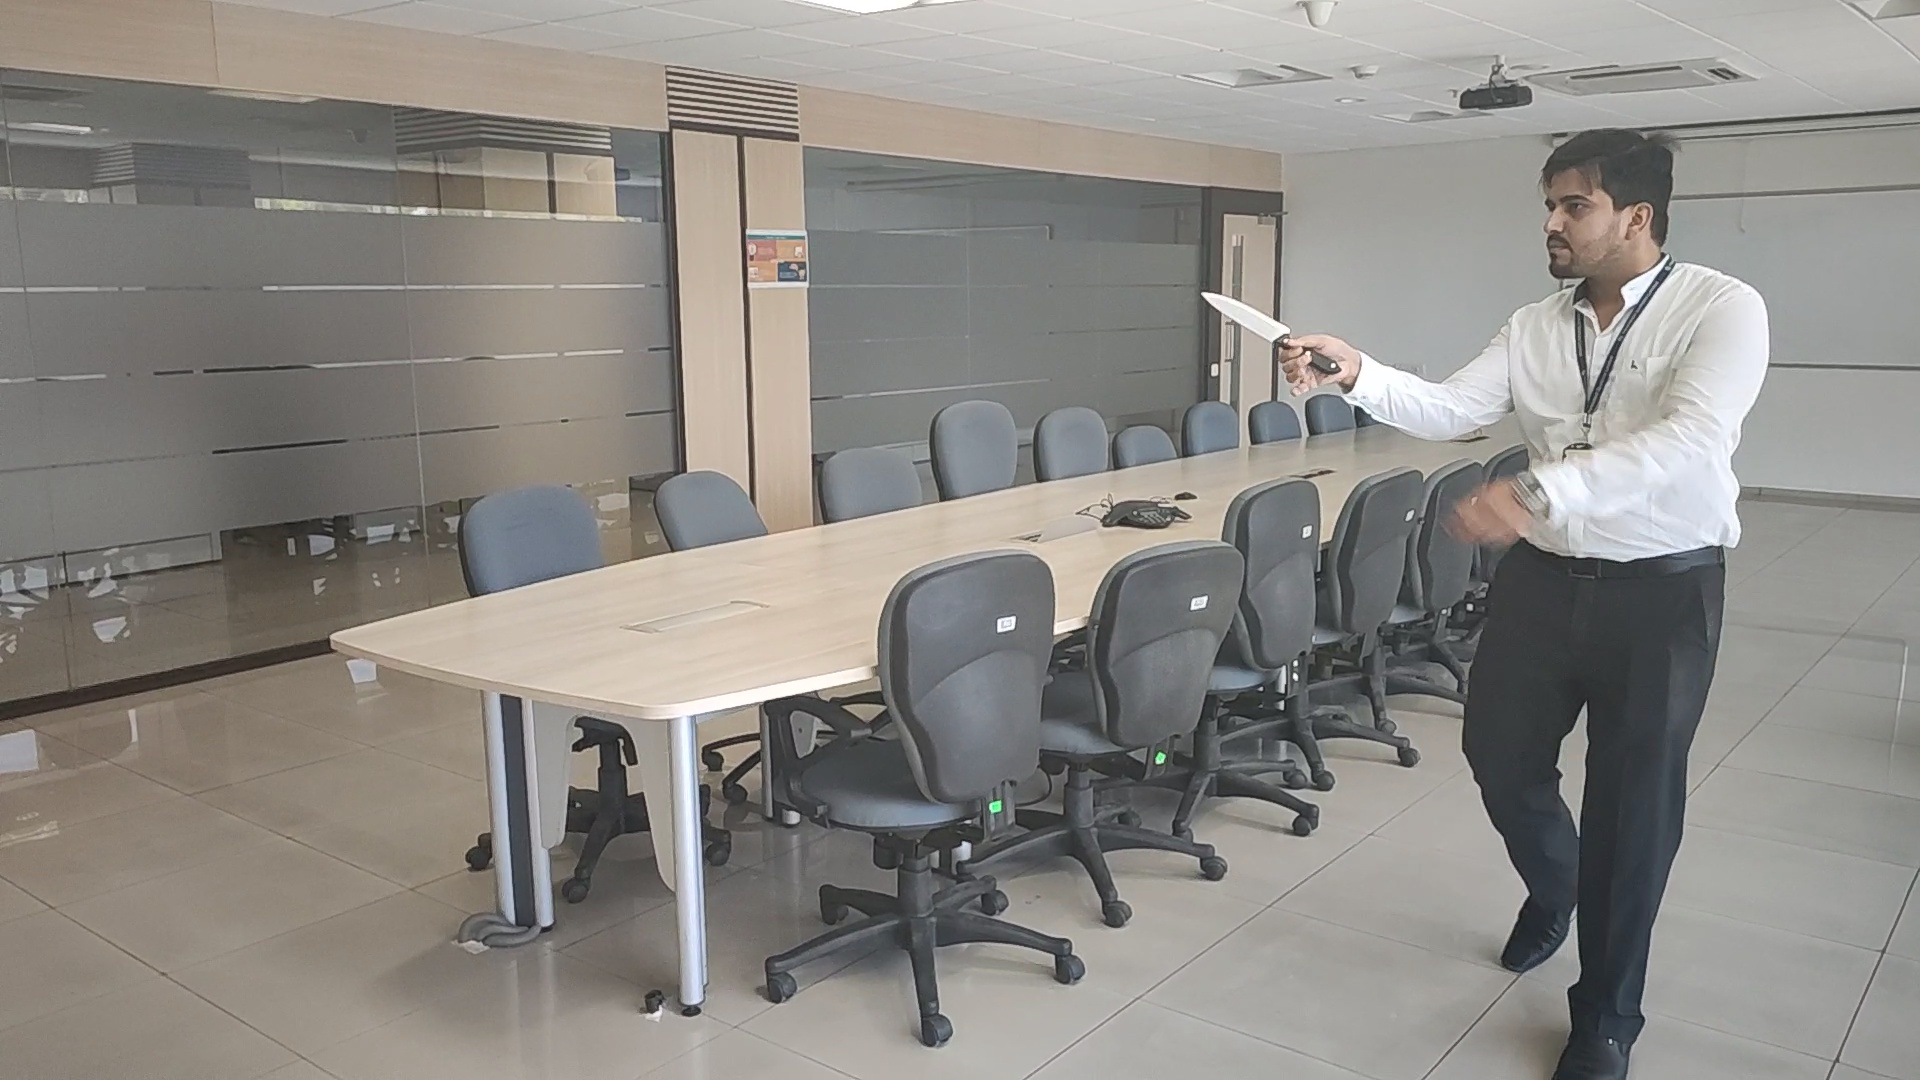knife: (1200, 287, 1342, 378)
